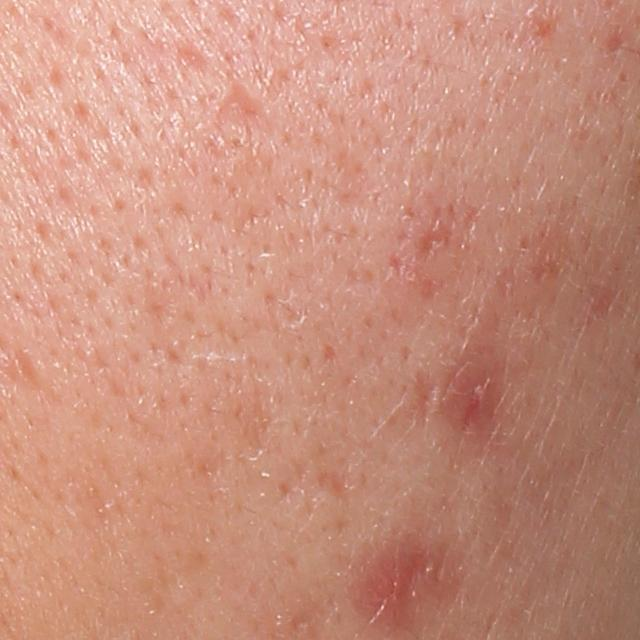atrophic_scar: (213, 80, 270, 146), (417, 224, 455, 264), (16, 344, 48, 391), (413, 371, 437, 432), (175, 45, 212, 80), (317, 469, 352, 499)
